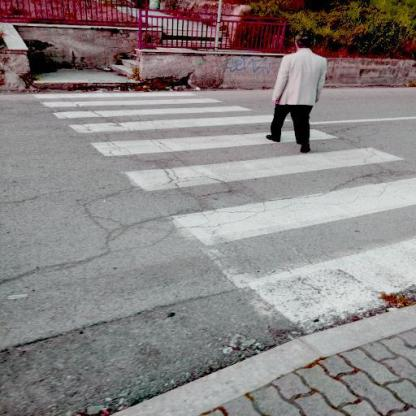crosswalk: (166, 174, 416, 351), (53, 113, 350, 159)
